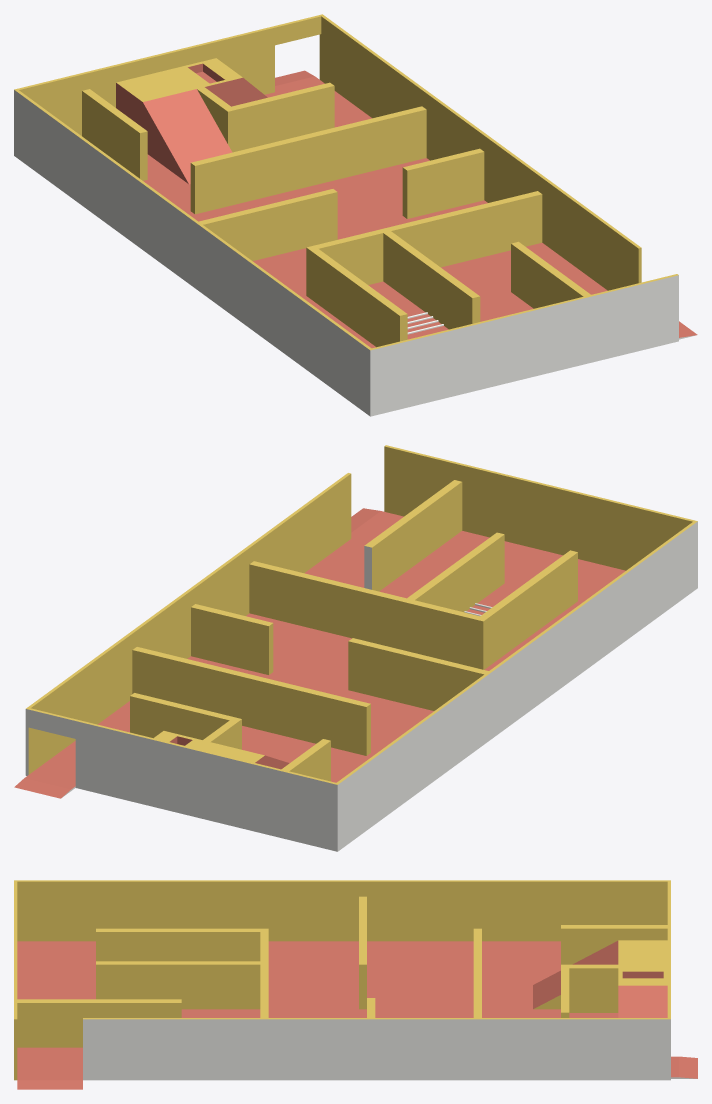
File: game_field.dae
The picture shows the model from 3 angles, top to bottom: view 1: azimuth 30°, elevation 25°; view 2: azimuth 150°, elevation 25°; view 3: azimuth 270°, elevation 25°; orthographic projection. The views are drawn at different scales.
Parts seen in each view (by area): view 1: Body1; view 2: Body1; view 3: Body1.
Part boxes in pixels (box(x1,y1,x2,y2)): Body1: box(14, 14, 697, 416); Body1: box(14, 445, 697, 851); Body1: box(14, 880, 697, 1089).
Size of the model in its own units: 2134 by 4164 by 410.
